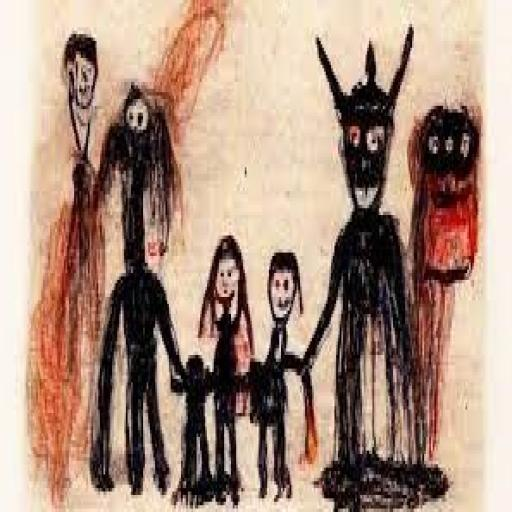person: (80, 52, 186, 502), (253, 241, 321, 509), (42, 6, 104, 291), (204, 225, 250, 509), (167, 354, 221, 507)
